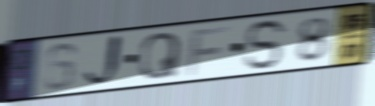6: (42, 41, 78, 92)
8: (296, 15, 332, 63)
F: (184, 23, 232, 78)
J: (81, 31, 125, 91)
Q: (137, 30, 183, 82)
S: (243, 17, 291, 73)
